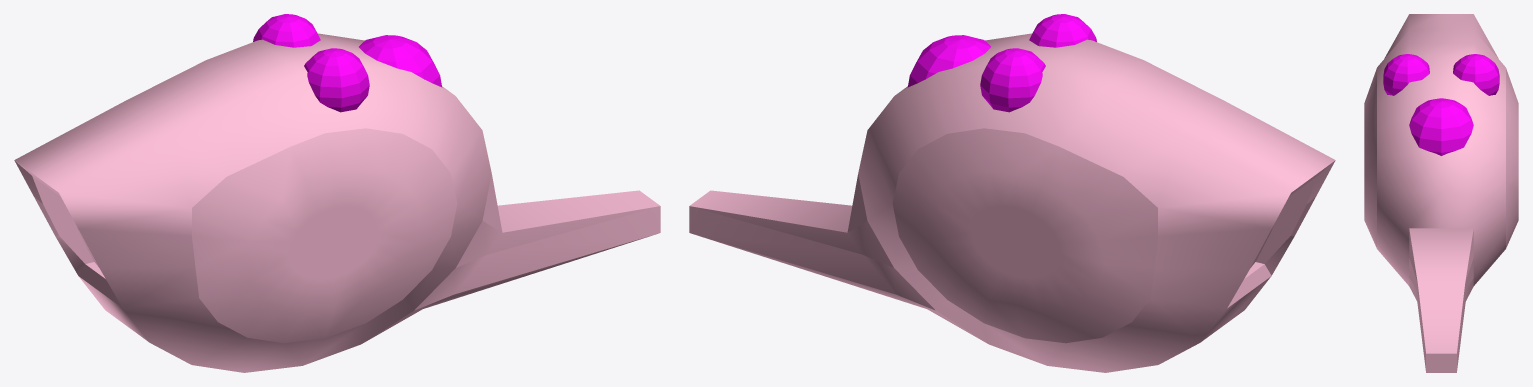
File: battleship_02_incolor_03.fbx
3 renders of one model, left to right at view 1: azimuth 30°, elevation 25°; view 2: azimuth 150°, elevation 25°; view 3: azimuth 270°, elevation 25°, orthographic. The views are drawn at different scales.
Parts seen in each view (by area): view 1: polySurface5.001; view 2: polySurface5.001; view 3: polySurface5.001.
Boxes of the visible parts, left/top/right/bottom form: polySurface5.001: left=14, top=14, right=660, bottom=372; polySurface5.001: left=689, top=14, right=1335, bottom=372; polySurface5.001: left=1364, top=14, right=1518, bottom=372.
Size of the model in its own units: 3.97 by 1.9 by 1.2.
